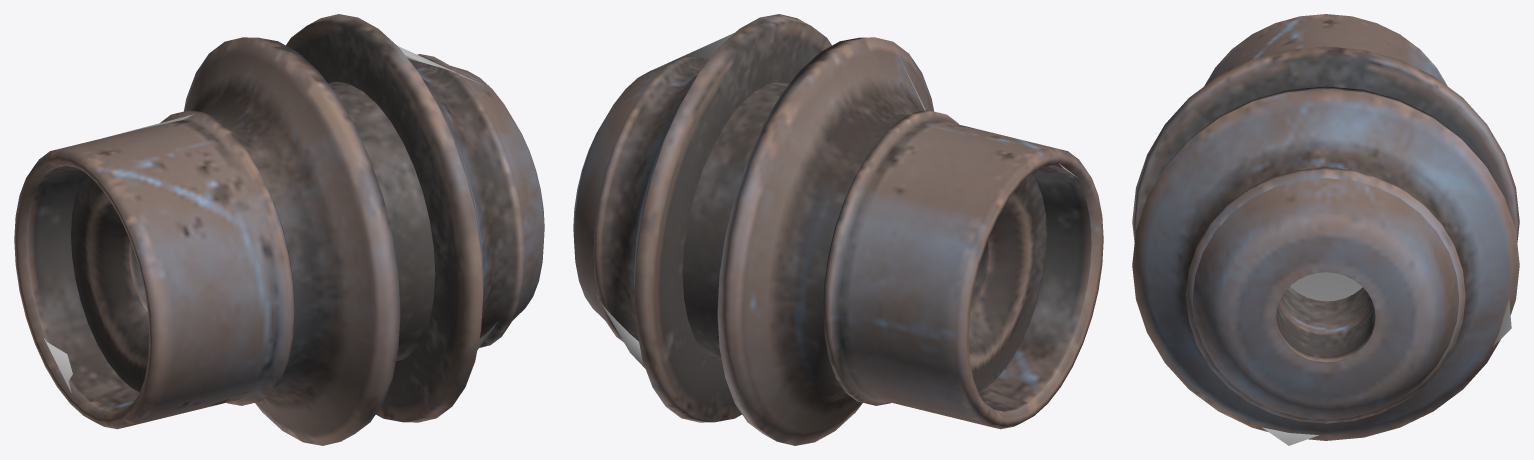
The model's file is SM_Wheel_middle.gltf.
3 views of the same model, side by side, from view 1: azimuth 30°, elevation 25°; view 2: azimuth 150°, elevation 25°; view 3: azimuth 270°, elevation 25° (orthographic). The views are drawn at different scales.
Visible parts, largest first — view 1: SM_Wheel_middle_LOD0, SM_Wheel_middle_ConvexHulls; view 2: SM_Wheel_middle_LOD0, SM_Wheel_middle_ConvexHulls; view 3: SM_Wheel_middle_LOD0, SM_Wheel_middle_ConvexHulls.
Part boxes in pixels (x1,y1,x2,y2): SM_Wheel_middle_LOD0: [14, 14, 544, 445]; SM_Wheel_middle_ConvexHulls: [44, 46, 498, 392]; SM_Wheel_middle_LOD0: [573, 14, 1103, 445]; SM_Wheel_middle_ConvexHulls: [596, 33, 1077, 368]; SM_Wheel_middle_LOD0: [1132, 14, 1519, 440]; SM_Wheel_middle_ConvexHulls: [1262, 272, 1511, 445].
Size of what is drawn, in the model's own units: 0.2512 by 0.2227 by 0.222.
